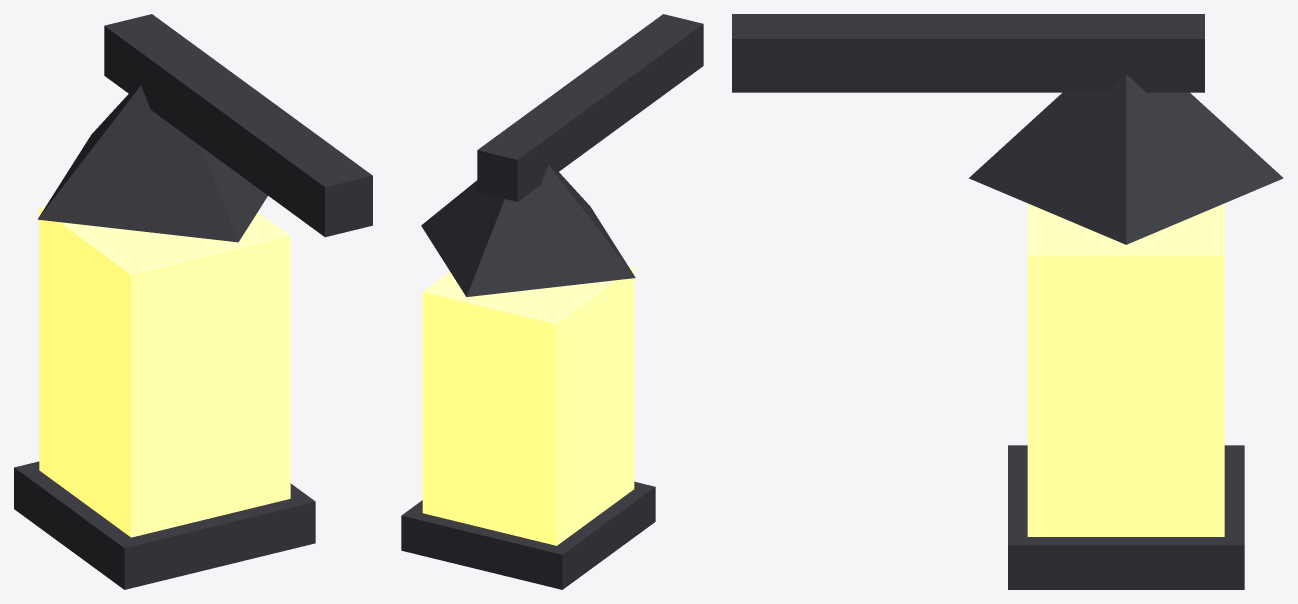
File: prop_wall_lantern.glb
3 views of the same model, side by side, from view 1: azimuth 30°, elevation 25°; view 2: azimuth 150°, elevation 25°; view 3: azimuth 270°, elevation 25° (orthographic). The views are drawn at different scales.
Visible parts, largest first — view 1: glass, bracket, cap, frame; view 2: glass, bracket, cap, frame; view 3: glass, bracket, cap, frame.
Boxes of the visible parts, box(x1,y1,x2,y2) form: glass: box(39, 206, 290, 537); bracket: box(104, 14, 372, 237); cap: box(37, 86, 267, 242); frame: box(14, 461, 315, 589); glass: box(422, 266, 634, 545); bracket: box(477, 14, 703, 201); cap: box(421, 165, 635, 296); frame: box(401, 481, 655, 589); glass: box(1027, 203, 1224, 536); bracket: box(732, 14, 1204, 92); cap: box(969, 74, 1283, 244); frame: box(1008, 445, 1244, 589).
Bounding box in the file's own units: 0.16 × 0.2875 × 0.28.
